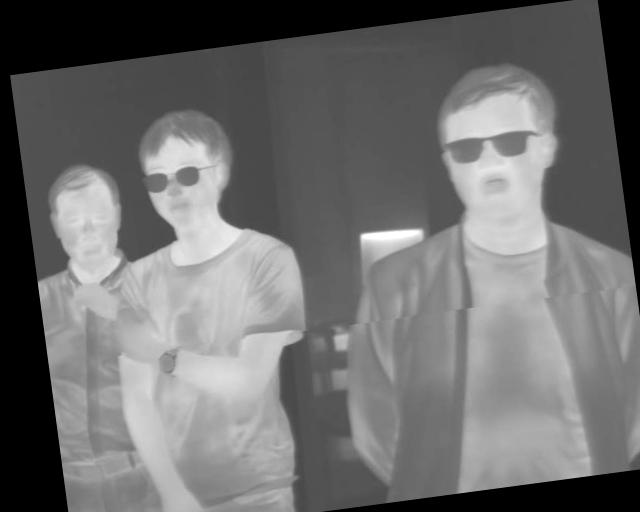face: (428, 54, 569, 227), (131, 101, 241, 236), (41, 157, 131, 278)
